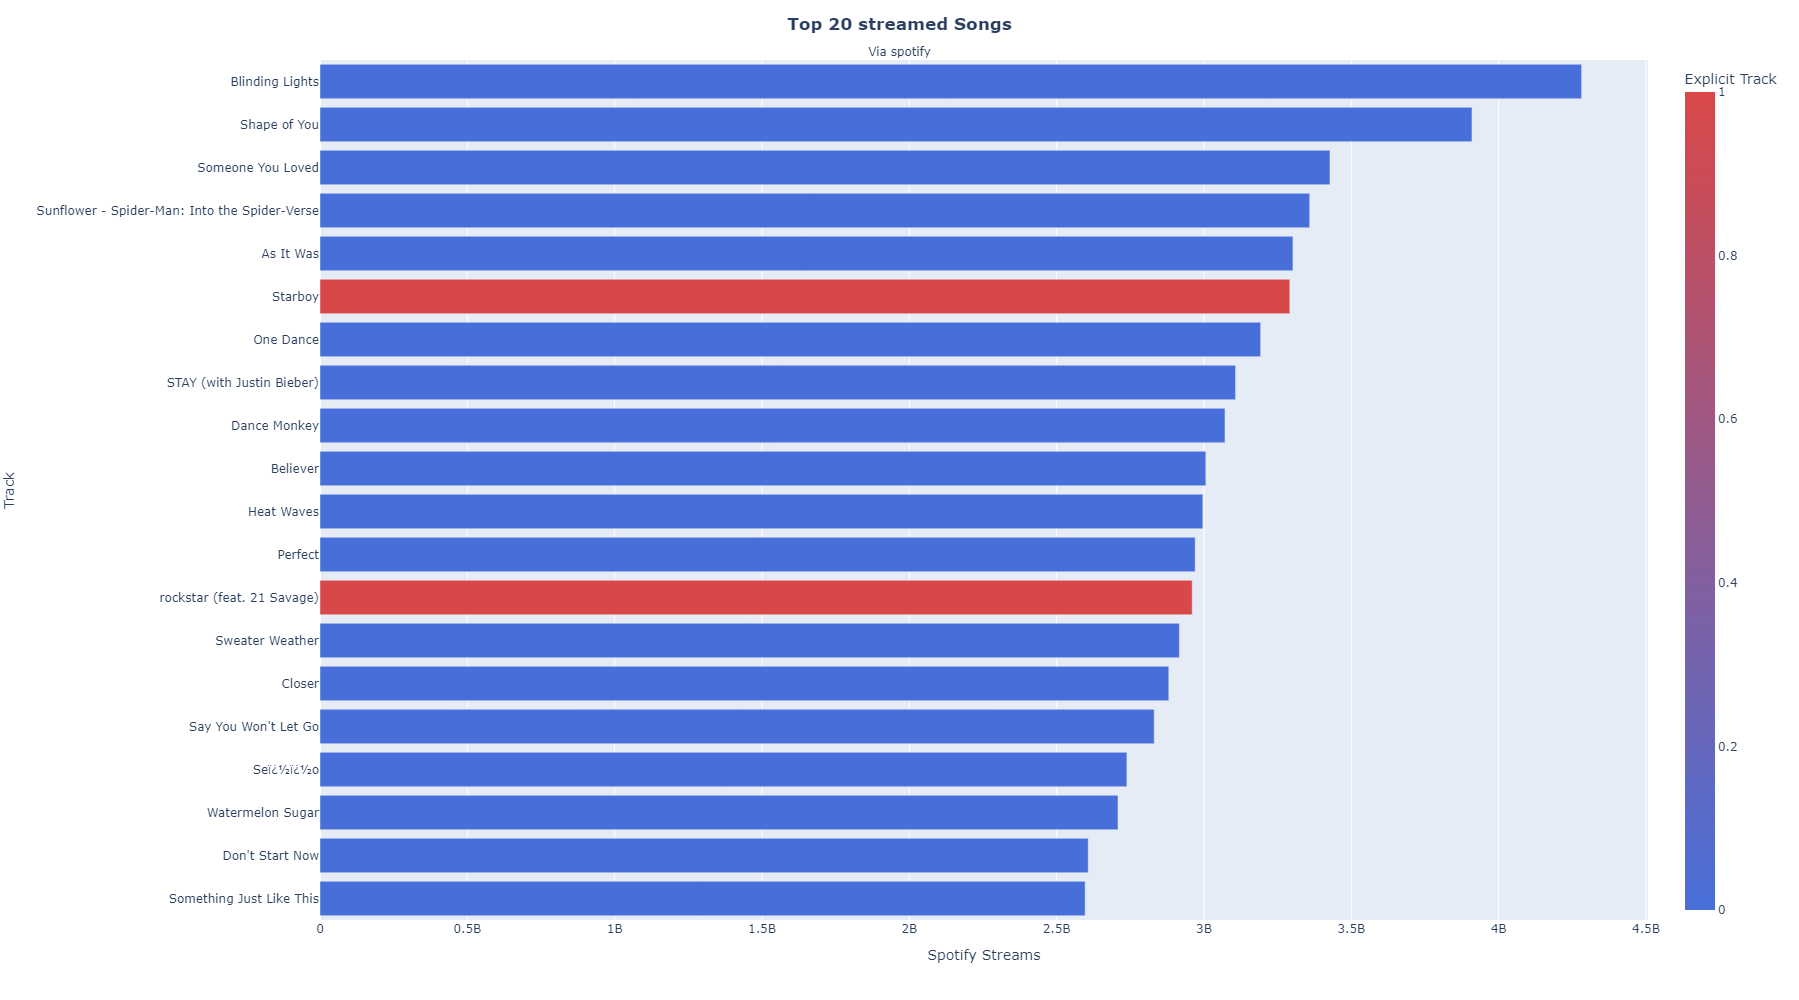

What the dashboard file says about the page in this screenshot:
{"tool":"tableau","page":{"name":"Total Streamed","canvas":[1366,768],"ordinal":8},"visuals":[{"type":"worksheet","title":"Total Streams","mark":"Automatic","rows":["Total Streams","Track","Album Name","Artist","Release Date","All-Time Rank"],"box":[8,8,1190,752]},{"type":"filter","title":"Total Streams","param":"[federated.1n5h8hz1i2sooz1815n8b1jvxusp].[none:Calculation_2307531899243077633:n","box":[1198,8,160,52]},{"type":"filter","title":"Total Streams","param":"[federated.1n5h8hz1i2sooz1815n8b1jvxusp].[none:Rank Bins:nk]","box":[1198,60,160,203]},{"type":"filter","title":"Total Streams","param":"[federated.1n5h8hz1i2sooz1815n8b1jvxusp].[none:Explicit IND:nk]","box":[1198,263,160,89]},{"type":"legend","title":"Total Streams","param":"[federated.1n5h8hz1i2sooz1815n8b1jvxusp].[none:Explicit IND:nk]","box":[1198,352,160,66]},{"type":"dashboard-object","box":[1198,418,160,53]}]}

Visuals, with their boxes in screenshot pixels (x1, y1, x2, y2), scaled from the page's 1366x768 canvas onto the 1799x1000 screenshot:
"Total Streams" worksheet: x1=11 y1=10 x2=1578 y2=990
"Total Streams" filter: x1=1578 y1=10 x2=1788 y2=78
"Total Streams" filter: x1=1578 y1=78 x2=1788 y2=342
"Total Streams" filter: x1=1578 y1=342 x2=1788 y2=458
"Total Streams" legend: x1=1578 y1=458 x2=1788 y2=544
dashboard-object: x1=1578 y1=544 x2=1788 y2=613
